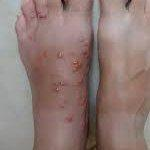Ants: (80, 91, 88, 136), (80, 35, 91, 61), (71, 57, 82, 72), (54, 81, 64, 93), (72, 78, 83, 86), (65, 117, 76, 125), (58, 103, 66, 109), (57, 51, 63, 58), (43, 51, 48, 59)
